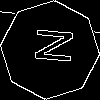N: (25, 25, 74, 65)
